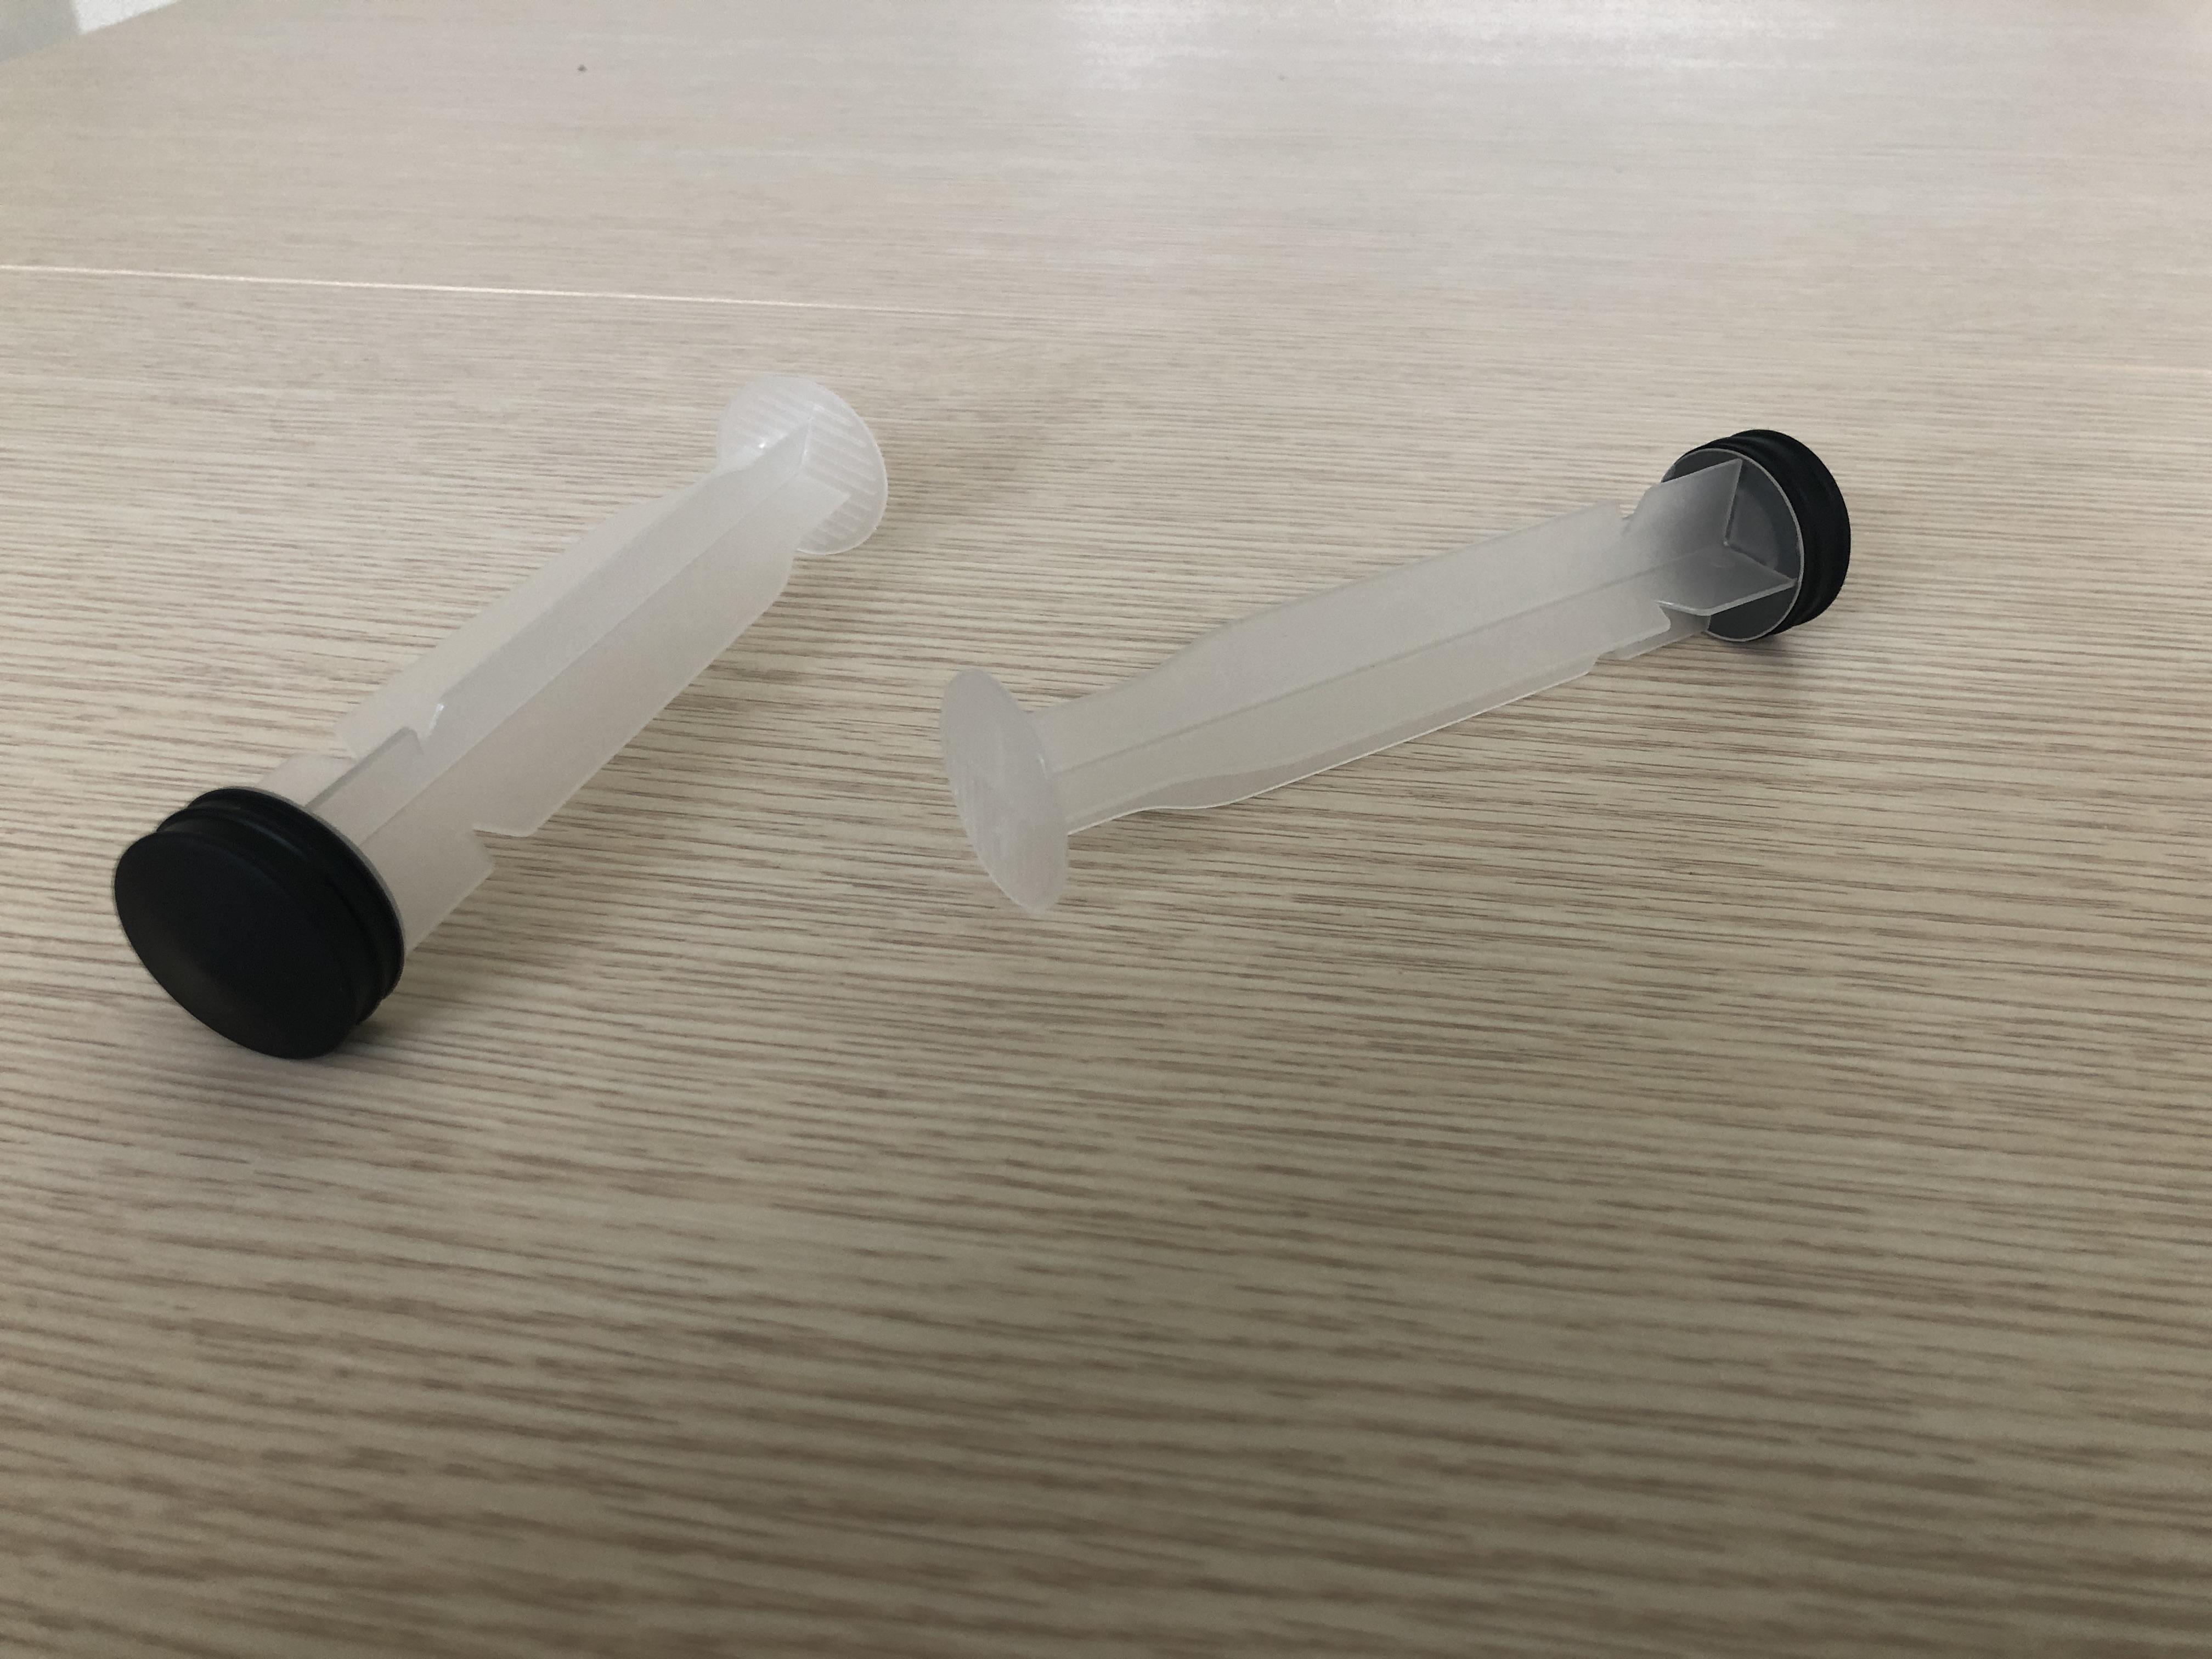plunger: (108, 362, 894, 1070), (932, 418, 1867, 924)
